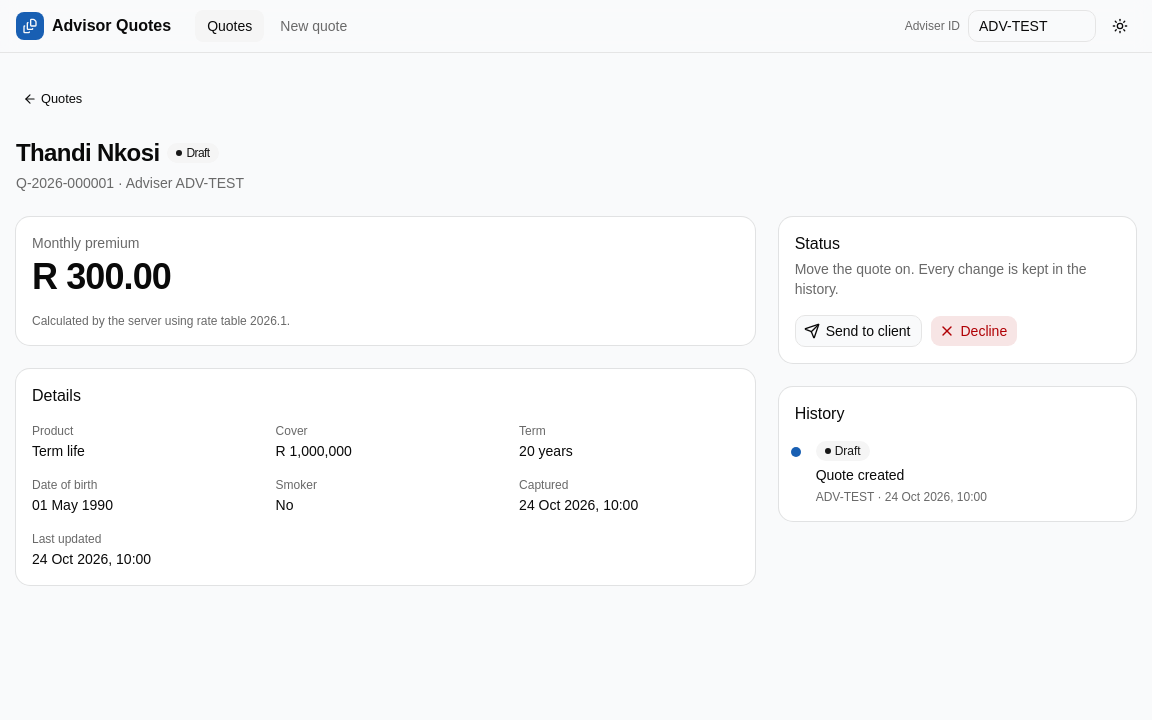
Test: changing a quote status › sends the change, closes the dialog and confirms with the trace id
Click the button "Send to client".
click(858, 331)  # box [795,315,922,347]
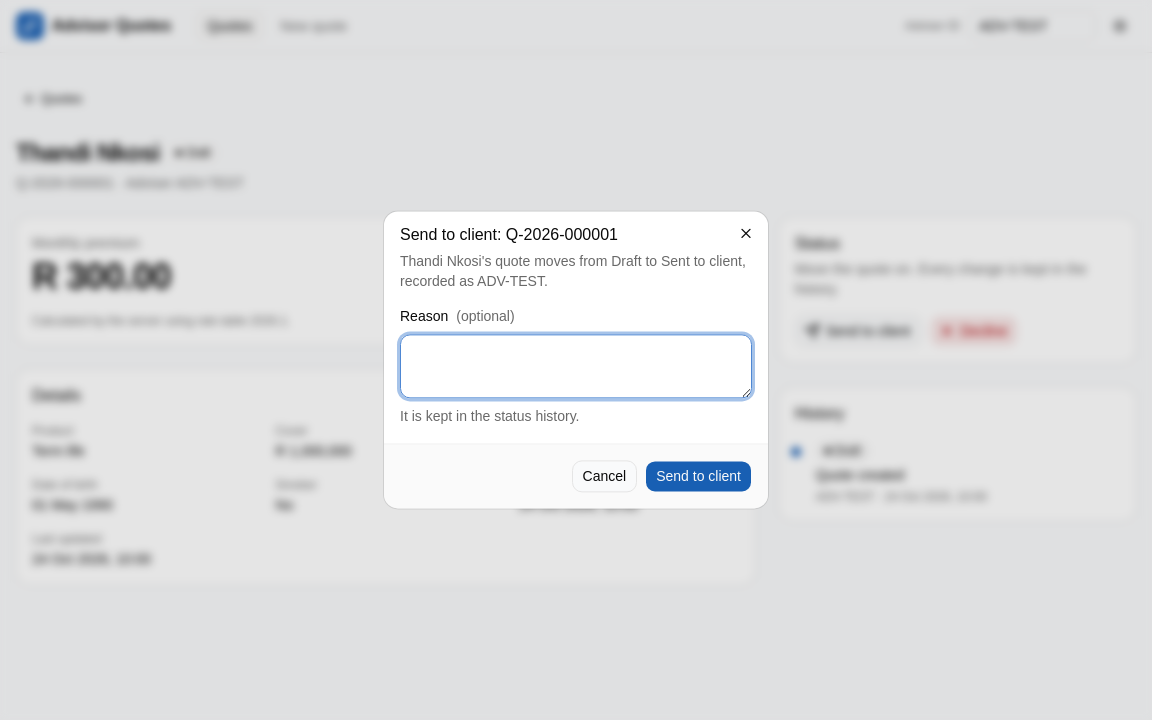
Click the button "Send to client".
click(699, 477)  # box [645,461,752,493]
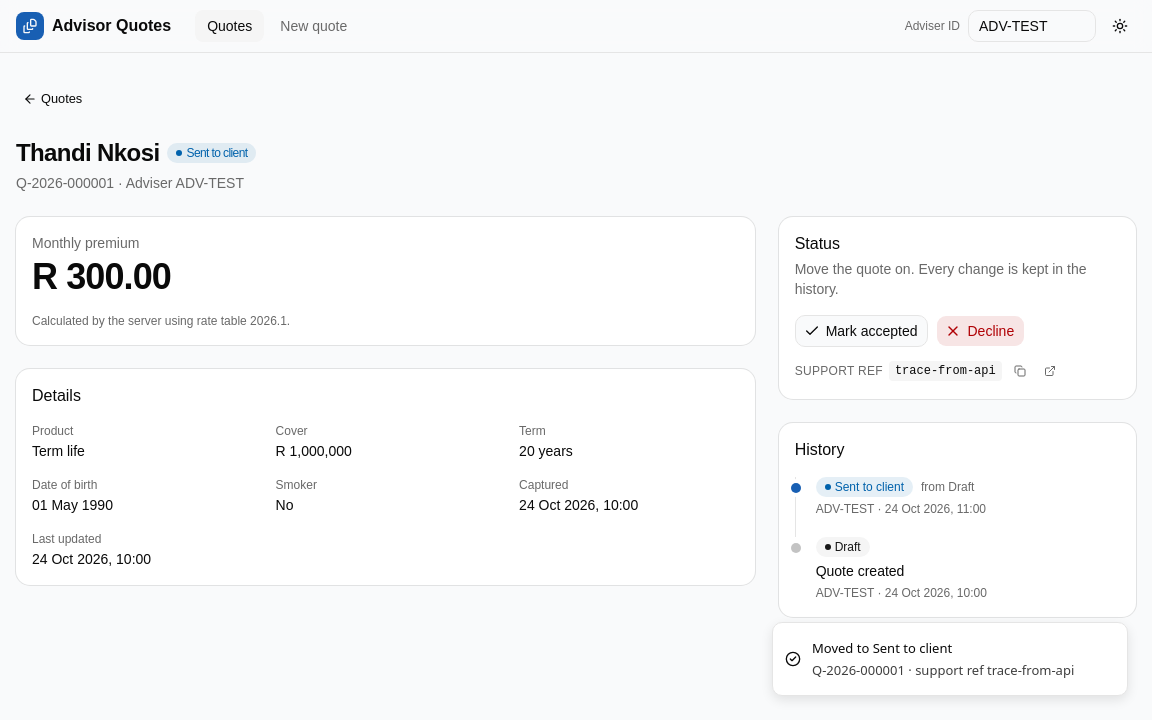
Now the text "Moved to Sent to client" is shown, box [812,639,952,657]
Now the dialog is gone
Now the text "trace-from-api" is shown, box [889,361,1002,381]
